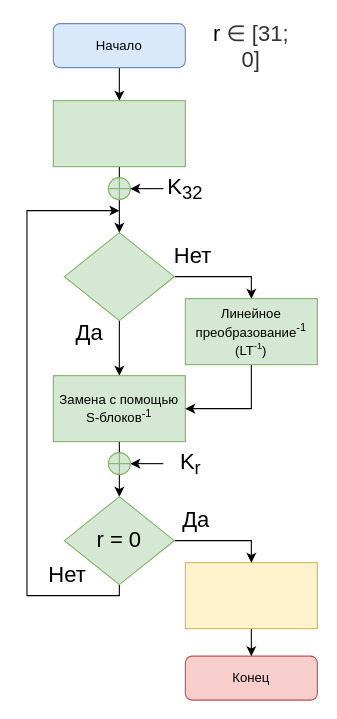
The diagram is 337 pixels wide and 719 high, and some of its shapes have lost their labels. Each missing label, with the centre of its shape:
"r = 31" goes at point 118,276.
"Конечная перестановка (FP)" goes at point 250,595.
"Начальная перестановка (IP)" goes at point 118,133.
